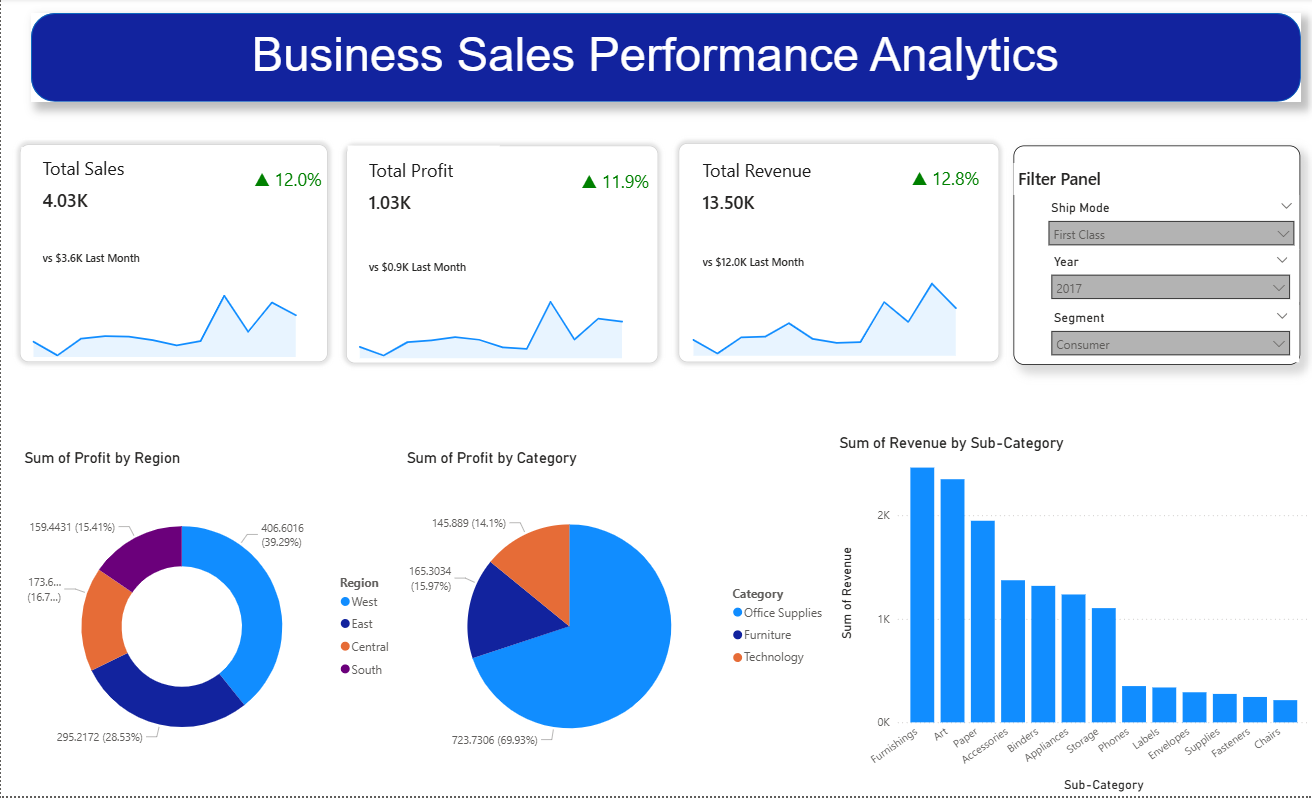

The page's visual inventory and layout, read from the dashboard file:
{"tool":"powerbi","page":{"name":"Page 1","canvas":[1480,900],"ordinal":0},"visuals":[{"type":"shape","box":[1141.3,166.4,323.4,247.2],"z":0},{"type":"shape","box":[388.7,166.8,352,245.2],"z":1000},{"type":"cardVisual","fields":{"Data":["Key Measures.Total Profit"]},"box":[387.2,166.5,174.6,157.3],"z":2000},{"type":"shape","box":[643.9,186.8,96.8,38.4],"z":3000},{"type":"lineChart","fields":{"Category":["Date Table.Month"],"Y":["Key Measures.Total Profit"]},"box":[388.5,307.4,327.1,105.2],"z":4000},{"type":"slicer","fields":{"Values":["Superstore Sales.Ship Mode"]},"box":[1174,222.4,289.2,60.6],"z":5000},{"type":"shape","box":[764,163.5,362,246.9],"z":6000},{"type":"cardVisual","fields":{"Data":["Key Measures.Total Revenue"]},"box":[763.1,164.2,256.8,152.9],"z":7000},{"type":"shape","box":[1019.3,183.5,91.8,38.4],"z":8000},{"type":"lineChart","fields":{"Category":["Date Table.Month"],"Y":["Key Measures.Total Revenue"]},"box":[764.6,304.9,327.1,105.2],"z":9000},{"type":"shape","box":[21.7,165.2,347,245.2],"z":10000},{"type":"cardVisual","fields":{"Data":["Key Measures.Total Sales"]},"box":[20.3,165,182,146.5],"z":11000},{"type":"shape","box":[276.9,185.2,91.8,38.4],"z":12000},{"type":"lineChart","fields":{"Y":["Sum(Superstore Sales.Sales)"],"Category":["Date Table.Month"]},"box":[21.7,305.8,327.1,105.2],"z":13000},{"type":"columnChart","fields":{"Category":["Superstore Sales.Sub-Category"],"Y":["Sum(Superstore Sales.Revenue)"]},"box":[939.2,492.1,540.5,408.7],"z":14000},{"type":"pieChart","fields":{"Category":["Superstore Sales.Category"],"Y":["Sum(Superstore Sales.Profit)"]},"box":[452.1,508.8,487.1,380.3],"z":15000},{"type":"donutChart","fields":{"Category":["Superstore Sales.Region"],"Y":["Sum(Superstore Sales.Profit)"]},"box":[21.8,508.5,430.7,381],"z":16000},{"type":"slicer","fields":{"Values":["Date Table.Year"]},"box":[1174,283,289.2,59.1],"z":17000},{"type":"shape","box":[33.4,16.7,1431.3,100.1],"z":18000},{"type":"textbox","box":[276.9,28.4,932.5,71.7],"z":19000},{"type":"slicer","fields":{"Values":["Superstore Sales.Segment"]},"box":[1174,346.8,289.2,63.8],"z":20000},{"type":"textbox","box":[1141.3,186.6,161.7,35.8],"z":20001}]}

Visuals, with their boxes in screenshot pixels (x1, y1, x2, y2), scaled from the page's 1480x900 canvas onto the 1312x800 screenshot:
shape: [1012, 148, 1298, 368]
shape: [345, 148, 657, 366]
cardVisual - Key Measures.Total Profit: [343, 148, 498, 288]
shape: [571, 166, 657, 200]
lineChart - Date Table.Month x Key Measures.Total Profit: [344, 273, 634, 367]
slicer - Superstore Sales.Ship Mode: [1041, 198, 1297, 252]
shape: [677, 145, 998, 365]
cardVisual - Key Measures.Total Revenue: [676, 146, 904, 282]
shape: [904, 163, 985, 197]
lineChart - Date Table.Month x Key Measures.Total Revenue: [678, 271, 968, 365]
shape: [19, 147, 327, 365]
cardVisual - Key Measures.Total Sales: [18, 147, 179, 277]
shape: [245, 165, 327, 199]
lineChart - Sum(Superstore Sales.Sales) x Date Table.Month: [19, 272, 309, 365]
columnChart - Superstore Sales.Sub-Category x Sum(Superstore Sales.Revenue): [833, 437, 1311, 799]
pieChart - Superstore Sales.Category x Sum(Superstore Sales.Profit): [401, 452, 833, 790]
donutChart - Superstore Sales.Region x Sum(Superstore Sales.Profit): [19, 452, 401, 791]
slicer - Date Table.Year: [1041, 252, 1297, 304]
shape: [30, 15, 1298, 104]
textbox: [245, 25, 1072, 89]
slicer - Superstore Sales.Segment: [1041, 308, 1297, 365]
textbox: [1012, 166, 1155, 198]
